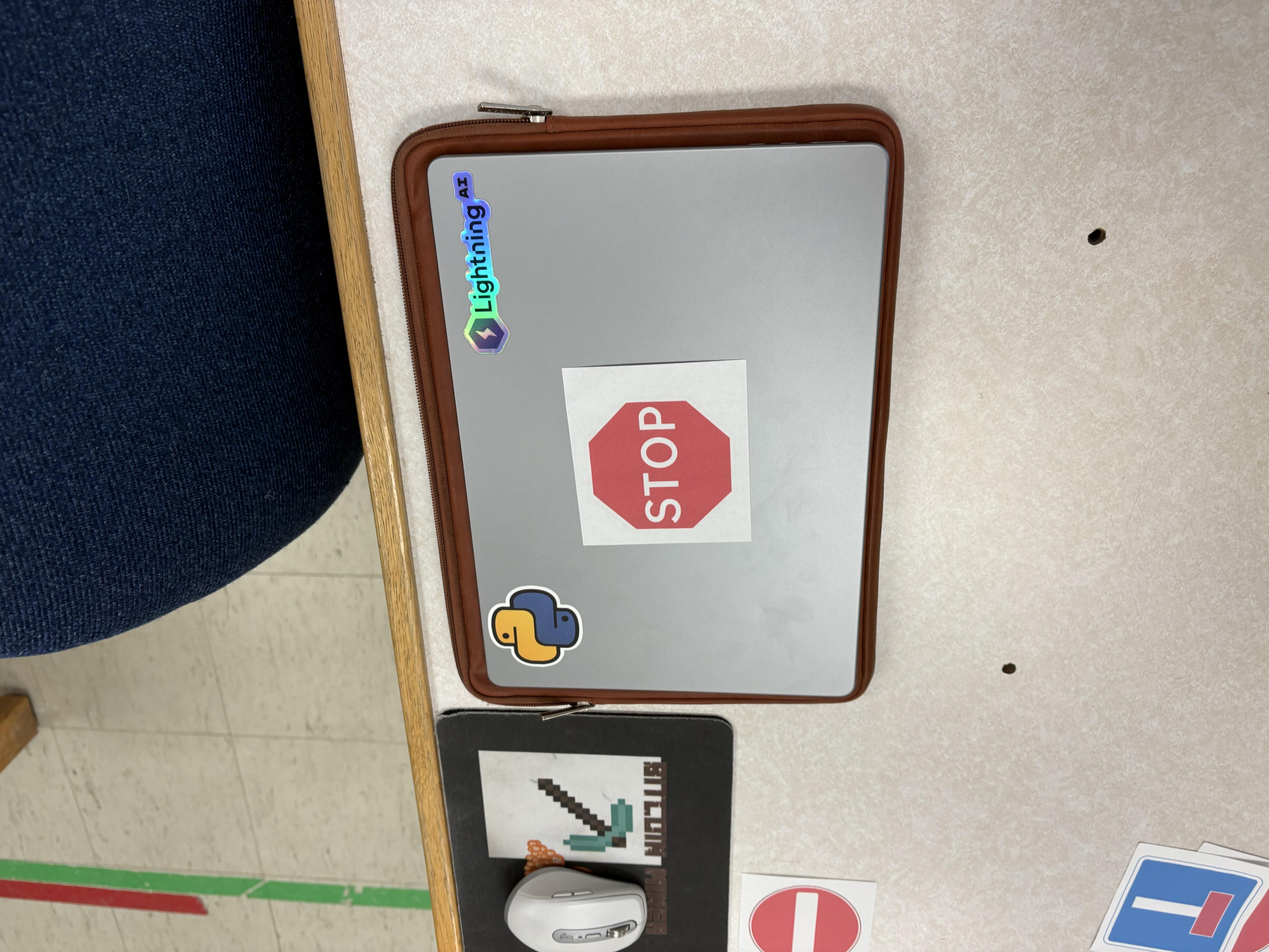Stop: (570, 352, 757, 546)
